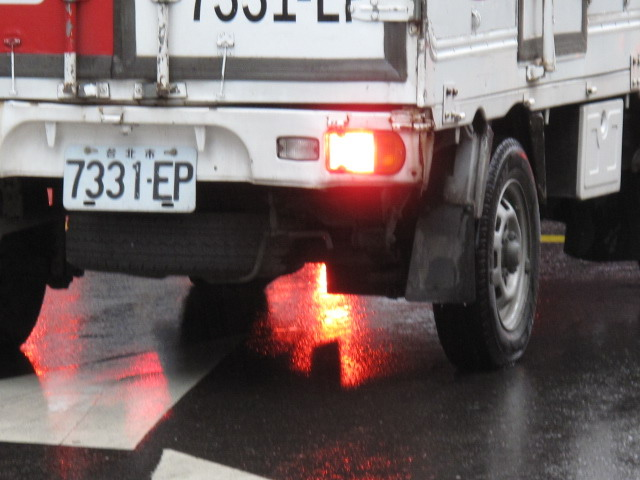plate: (58, 140, 200, 219)
